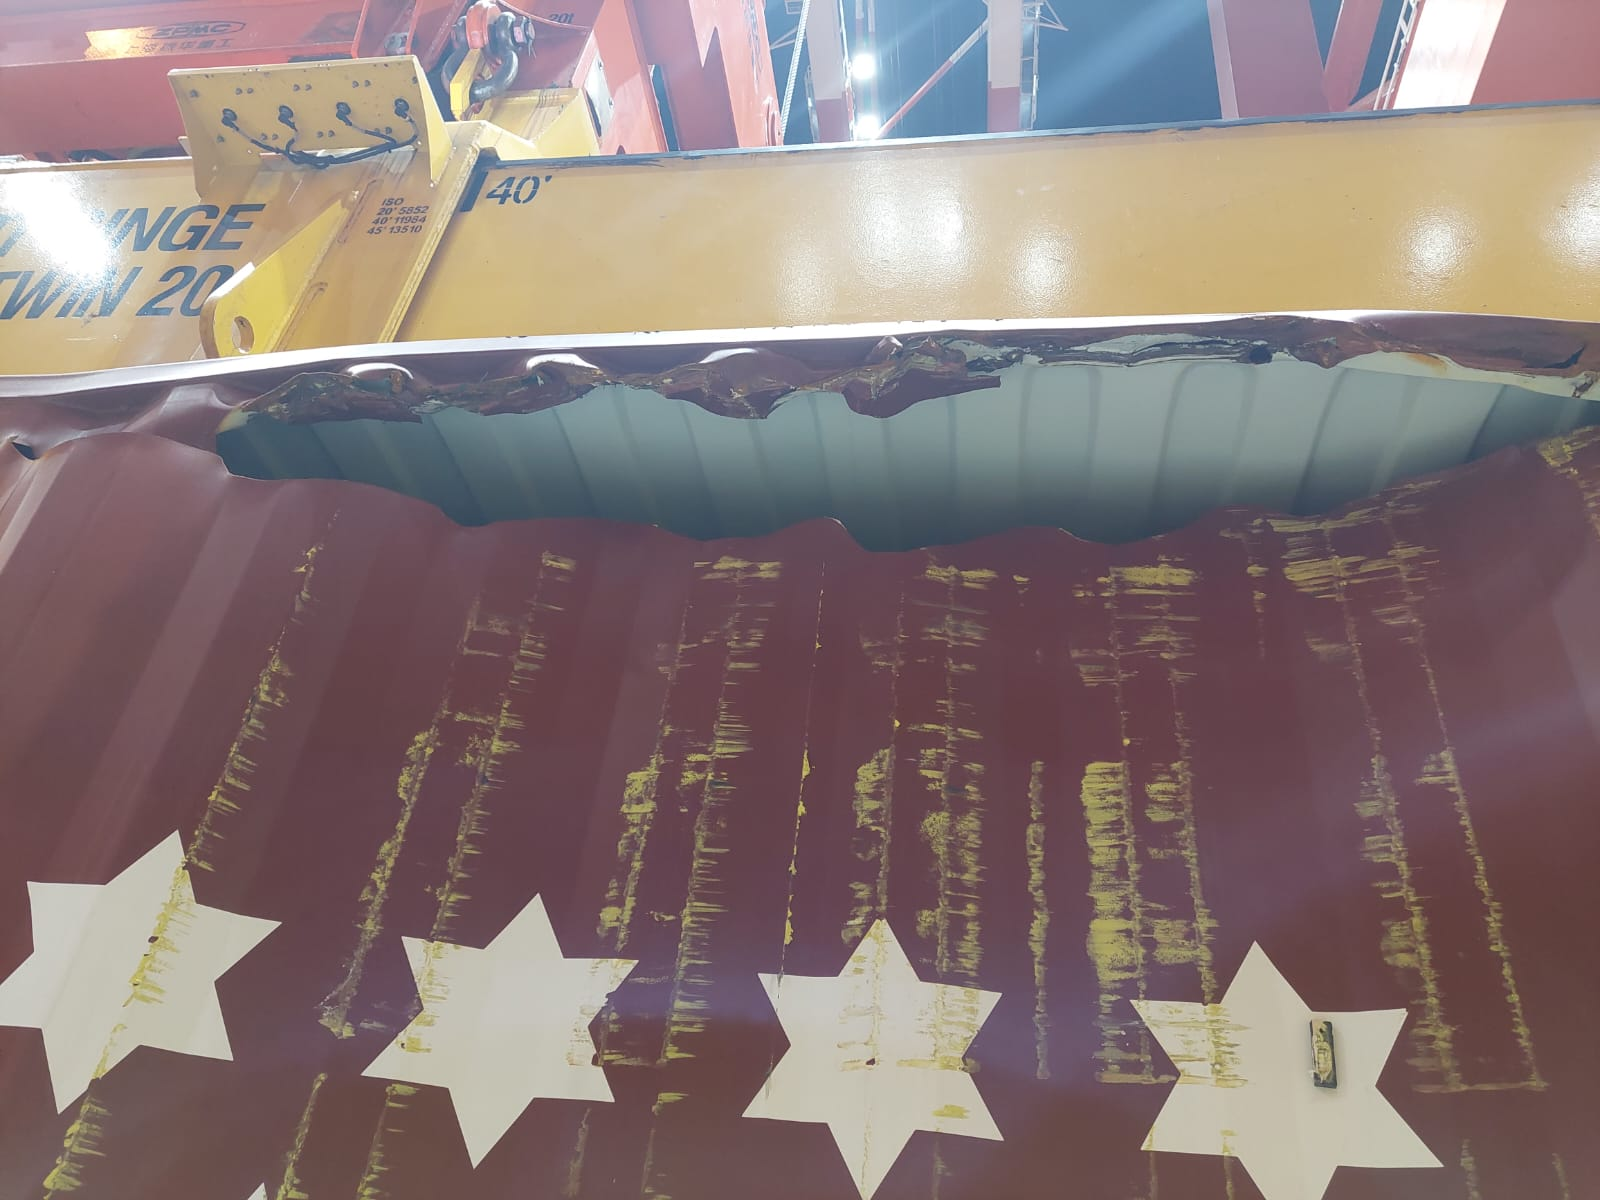cut: (77, 350, 1594, 579)
